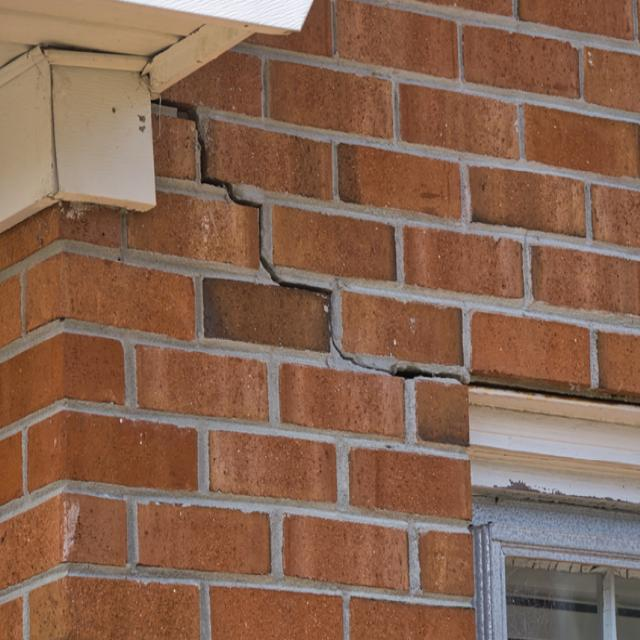Crack: (150, 93, 465, 381)
